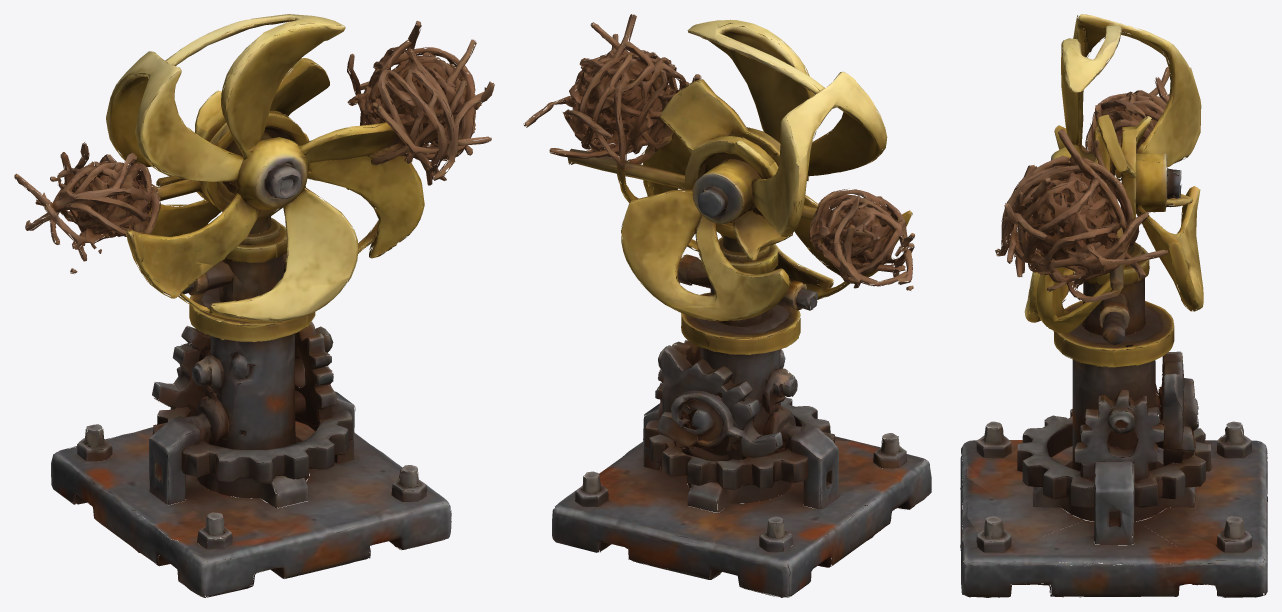
File: dust_devil_trap.glb
The picture shows the model from 3 angles, left to right: view 1: azimuth 30°, elevation 25°; view 2: azimuth 150°, elevation 25°; view 3: azimuth 270°, elevation 25°; orthographic projection. The views are drawn at different scales.
Parts seen in each view (by area): view 1: spin0, base; view 2: spin0, base; view 3: base, spin0.
Boxes of the visible parts, <box> form: spin0: <box>14,14,494,306</box>; base: <box>51,248,451,597</box>; spin0: <box>523,14,914,320</box>; base: <box>552,250,931,597</box>; base: <box>960,267,1267,597</box>; spin0: <box>995,14,1203,335</box>.
Size of the model in its own units: 1.58 by 1.8 by 1.
Materials: 1 (1 with a texture image).
